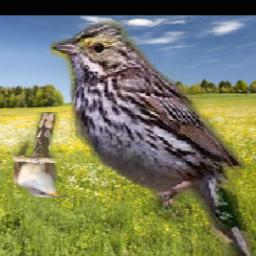Cuckoo: (12, 113, 67, 198)
Sparrow: (49, 19, 256, 256)
